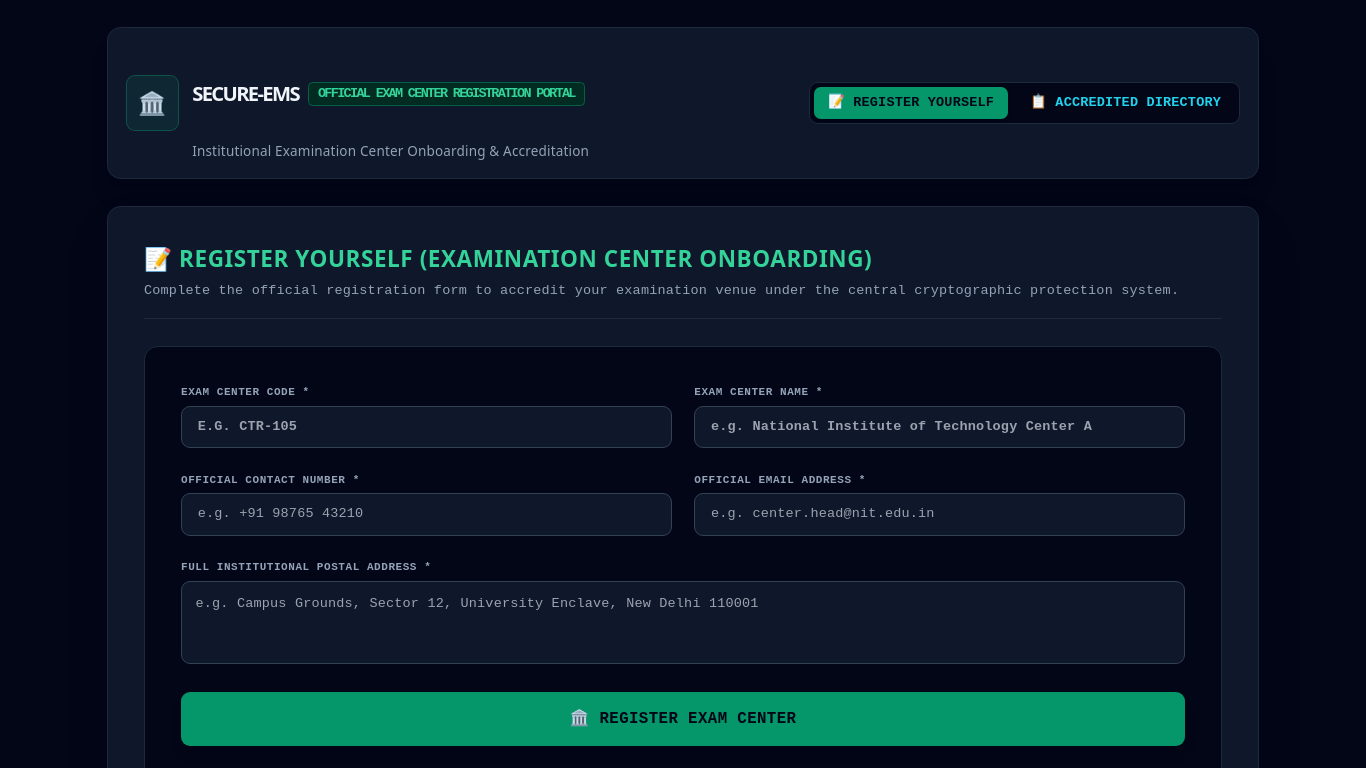
Scenario: CenterRegistrationTerminal Component › submits center registration form and displays accreditation certificate
Type "CTR-105" into the field labelled "EXAM CENTER CODE *". click: {"x": 426, "y": 427}
box: [181,406,672,448]
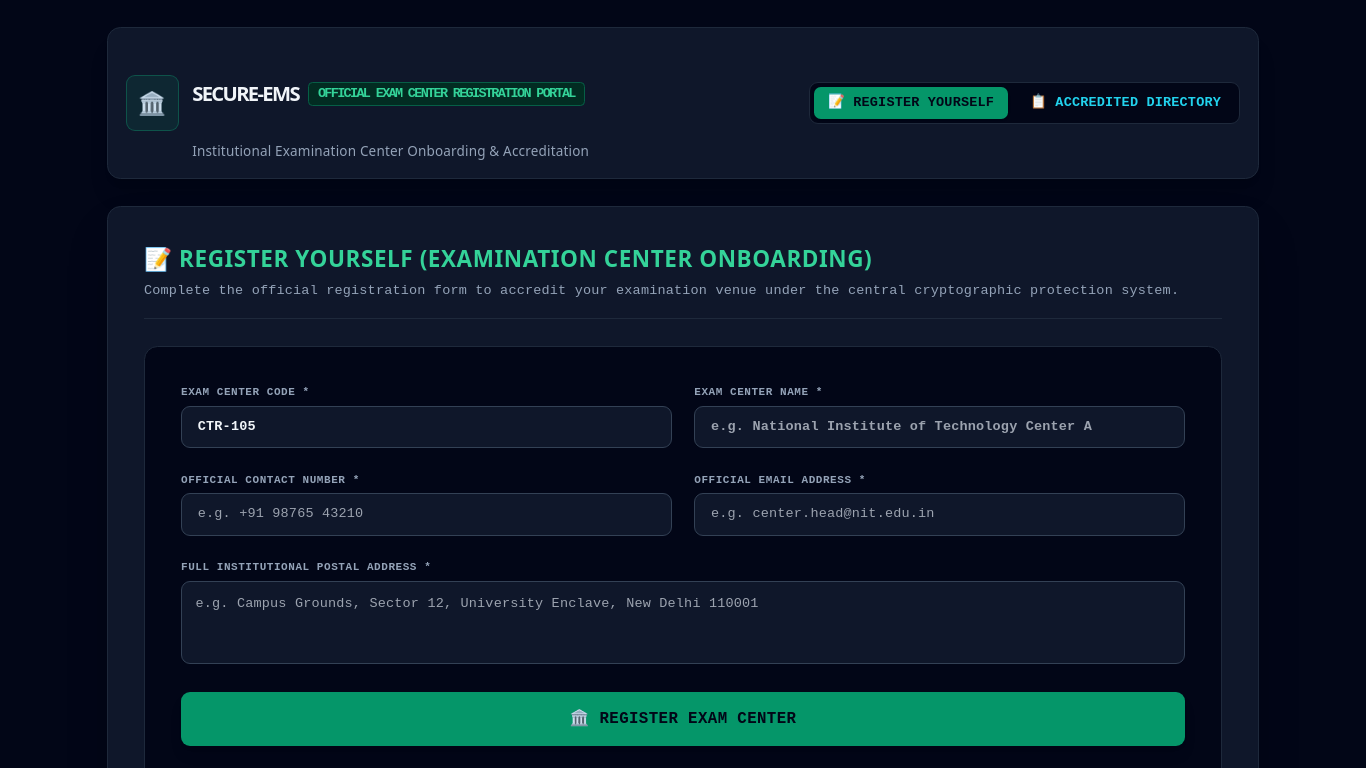
Type "NIT Center A" into the field labelled "EXAM CENTER NAME *". click: {"x": 940, "y": 427}
box: [694,406,1185,448]
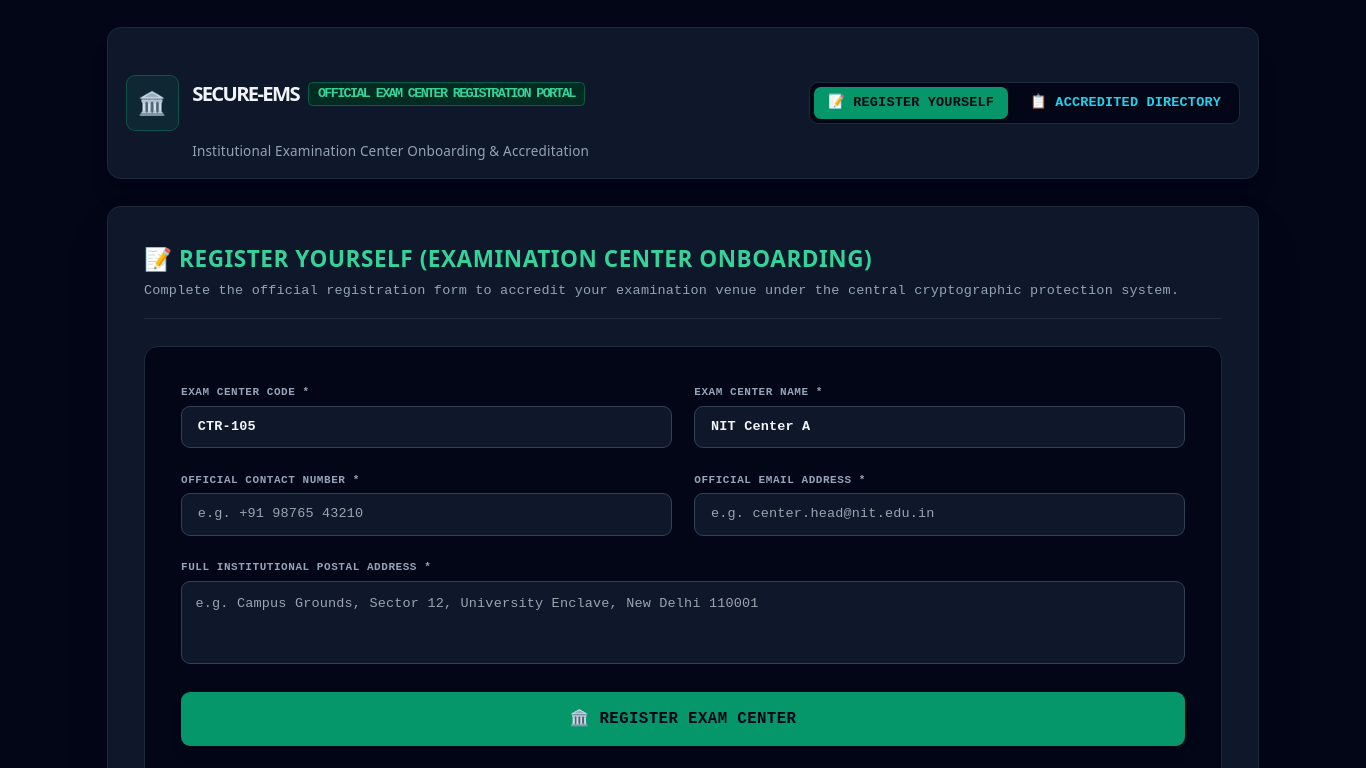
Type "+91 98765 43210" into the field labelled "OFFICIAL CONTACT NUMBER *". click: {"x": 426, "y": 514}
box: [181,493,672,536]
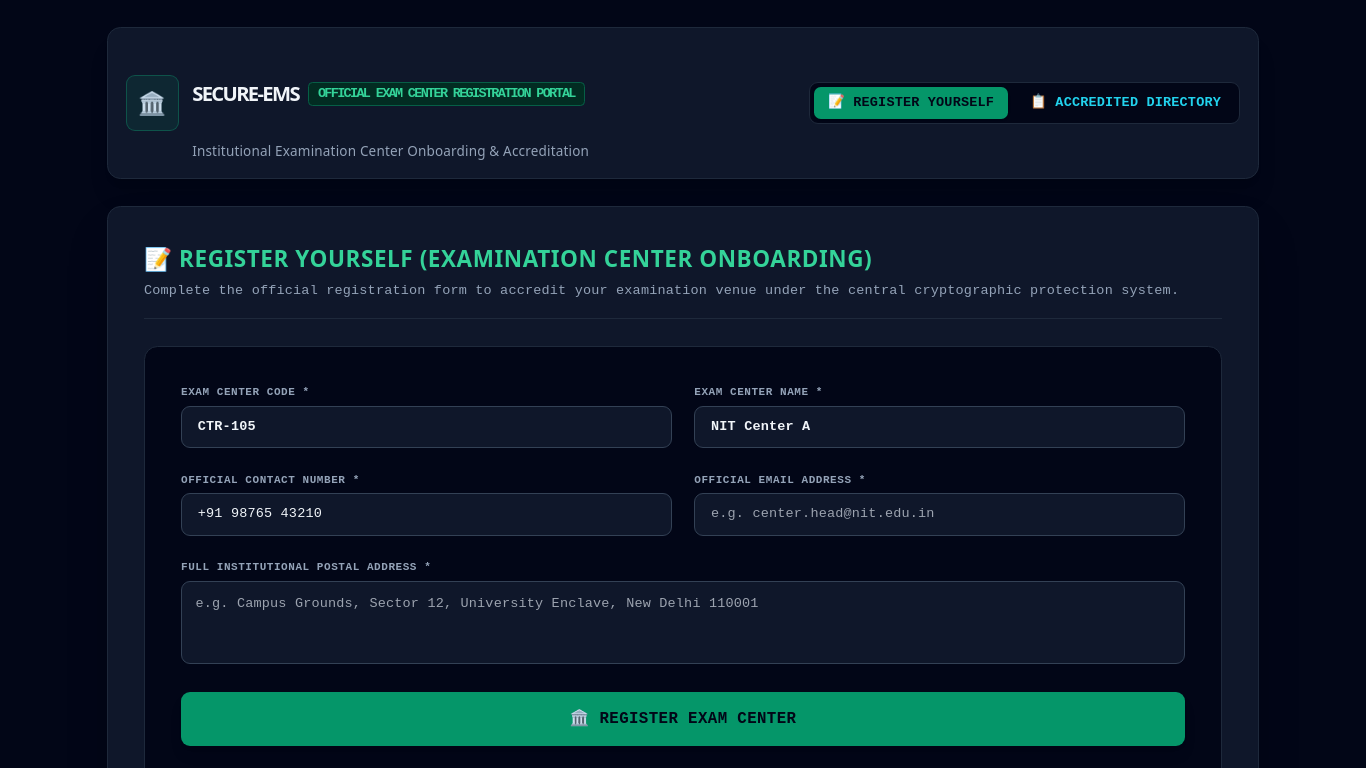
Type "center.head@nit.edu.in" into the field labelled "OFFICIAL EMAIL ADDRESS *". click: {"x": 940, "y": 514}
box: [694,493,1185,536]
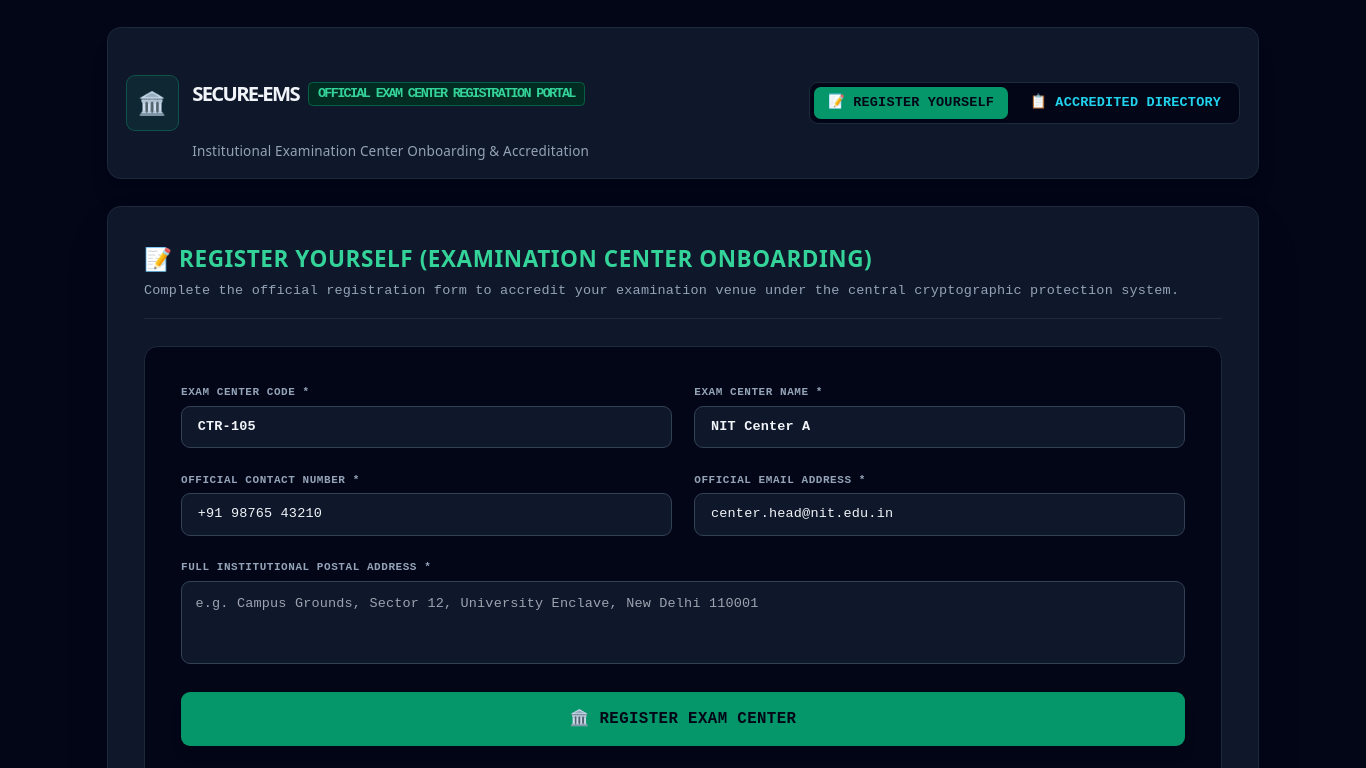
Replace the text in the text box labelled "FULL INSTITUTIONAL POSTAL ADDRESS *" with "Campus Grounds, Delhi". click: {"x": 683, "y": 622}
box: [181,580,1185,664]
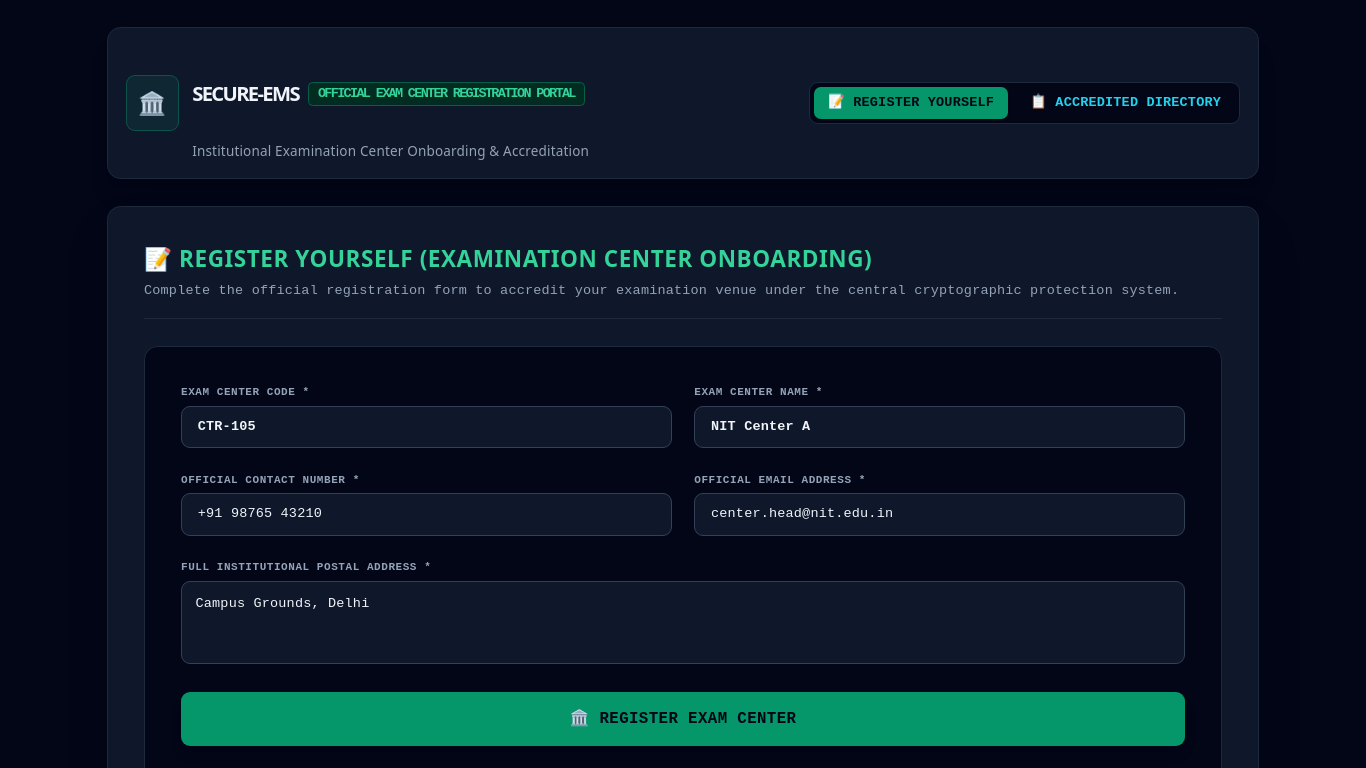
Click the button "🏛️ REGISTER EXAM CENTER". click: {"x": 683, "y": 719}
box: [181,692,1185,746]
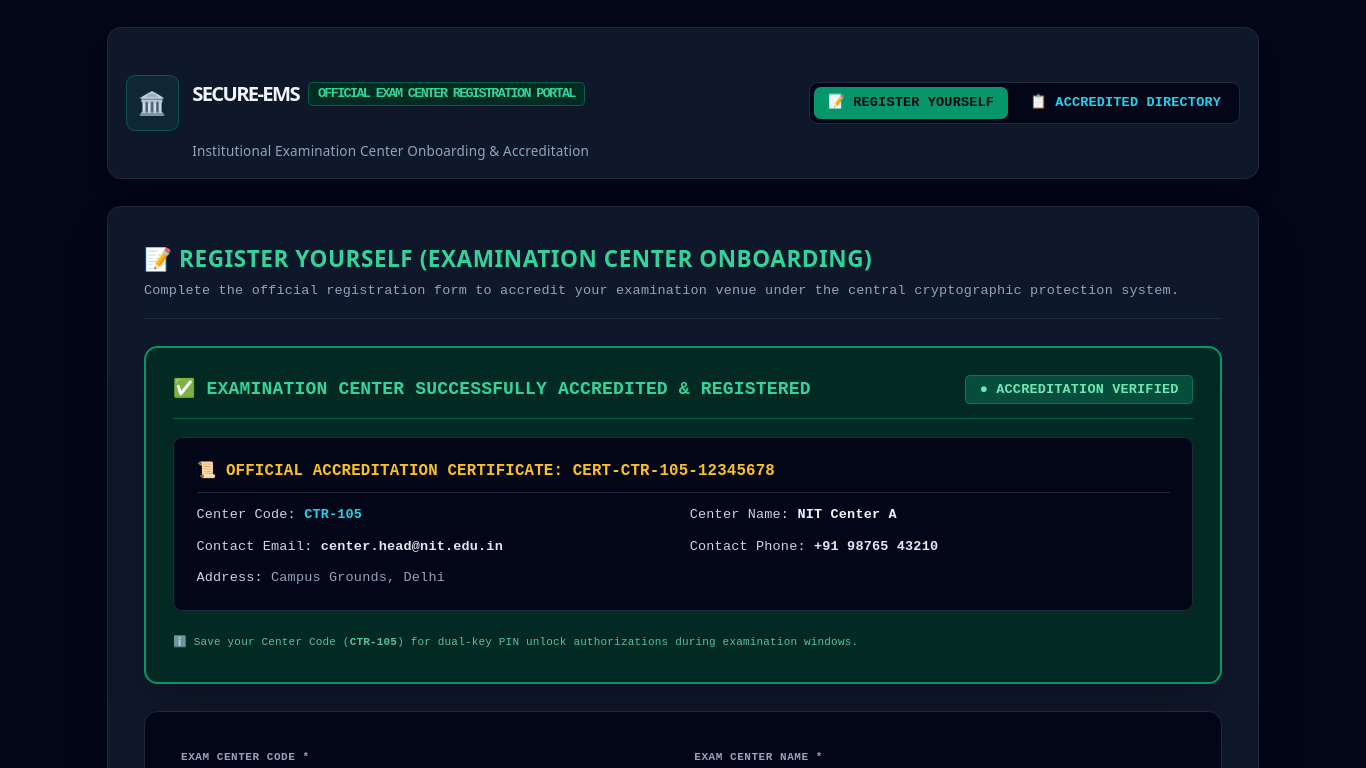
Now the text "✅ EXAMINATION CENTER SUCCESSFULLY ACCREDITED & REGISTERED" is shown, box [173,376,811,403]
Now the text "📜 OFFICIAL ACCREDITATION CERTIFICATE: CERT-CTR-105-12345678" is shown, box [196,460,1170,492]
